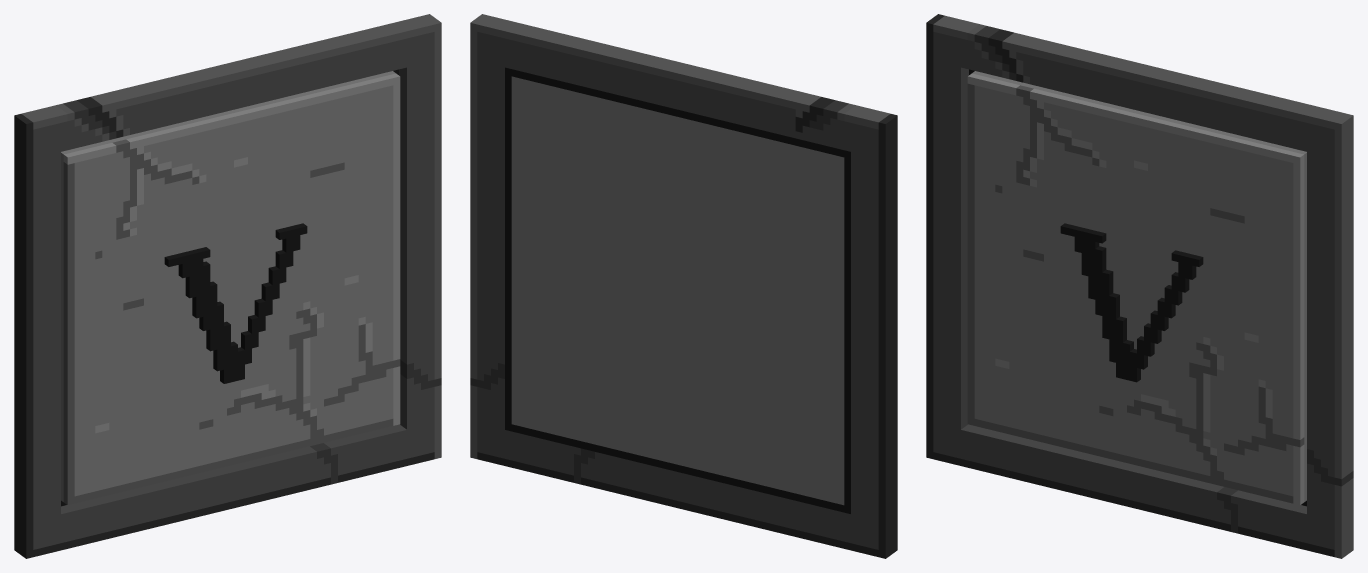
Rendered from balpan_5.obj.
3 views of the same model, side by side, from view 1: azimuth 30°, elevation 25°; view 2: azimuth 150°, elevation 25°; view 3: azimuth 330°, elevation 25° (orthographic).
Parts seen in each view (by area): view 1: balpan_5; view 2: balpan_5; view 3: balpan_5.
Part boxes in pixels (x1=…): balpan_5: x1=14, y1=14, x2=441, y2=558; balpan_5: x1=470, y1=14, x2=897, y2=558; balpan_5: x1=926, y1=14, x2=1353, y2=558.
Size of the model in its own units: 60 by 60 by 4.
1 material, 1 textured.
